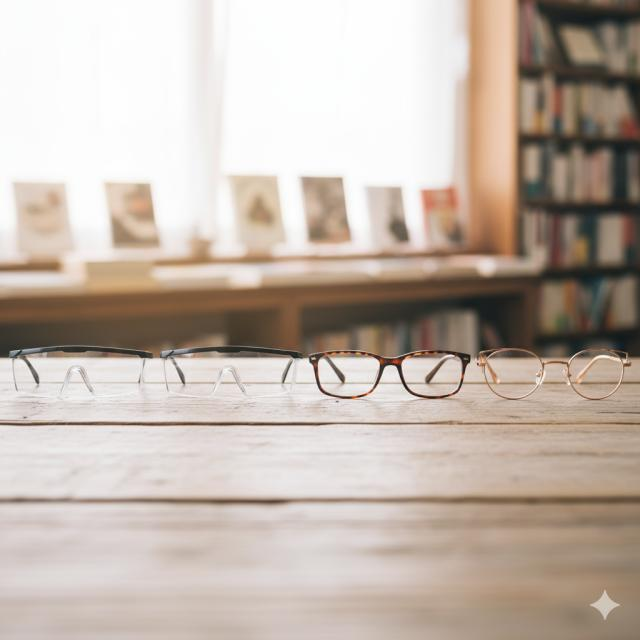oculos-epi: (3, 339, 154, 401), (156, 343, 306, 405)
sem_oculos: (309, 350, 470, 399), (477, 349, 631, 399)
